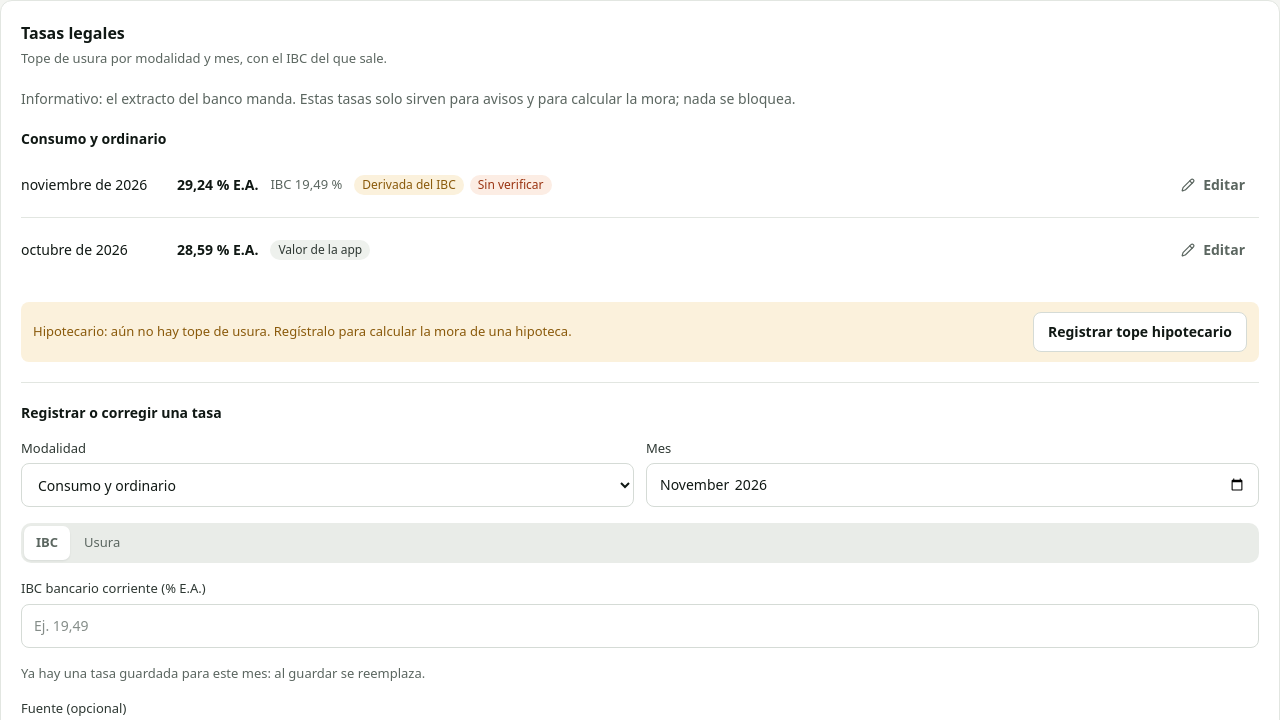
Test: LegalRatesPanel rate form › never offers the IBC for a mortgage
This screenshot has width=1280, height=720.
Select "Hipotecario" in the dropdown labelled "Modalidad": (328, 485) [21,463,634,507]
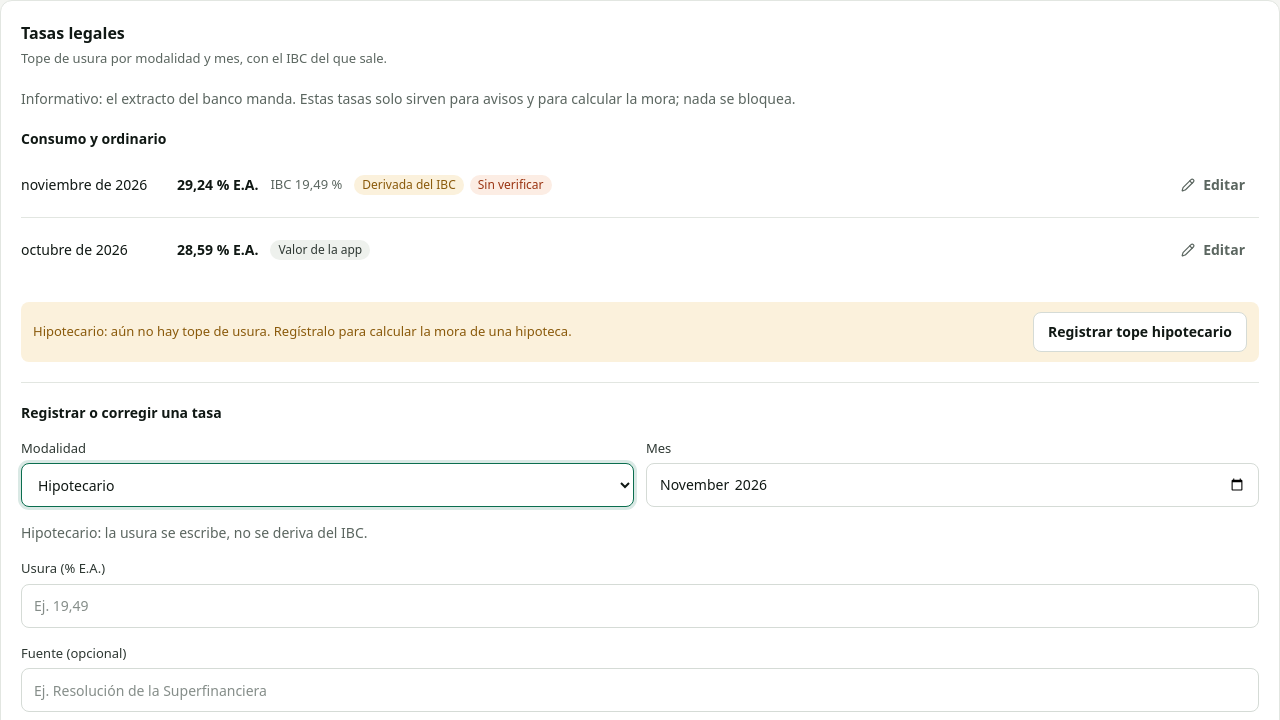
expect the text "Hipotecario: la usura se escribe, no se deriva del IBC." is shown: met, box [21,523,368,542]
